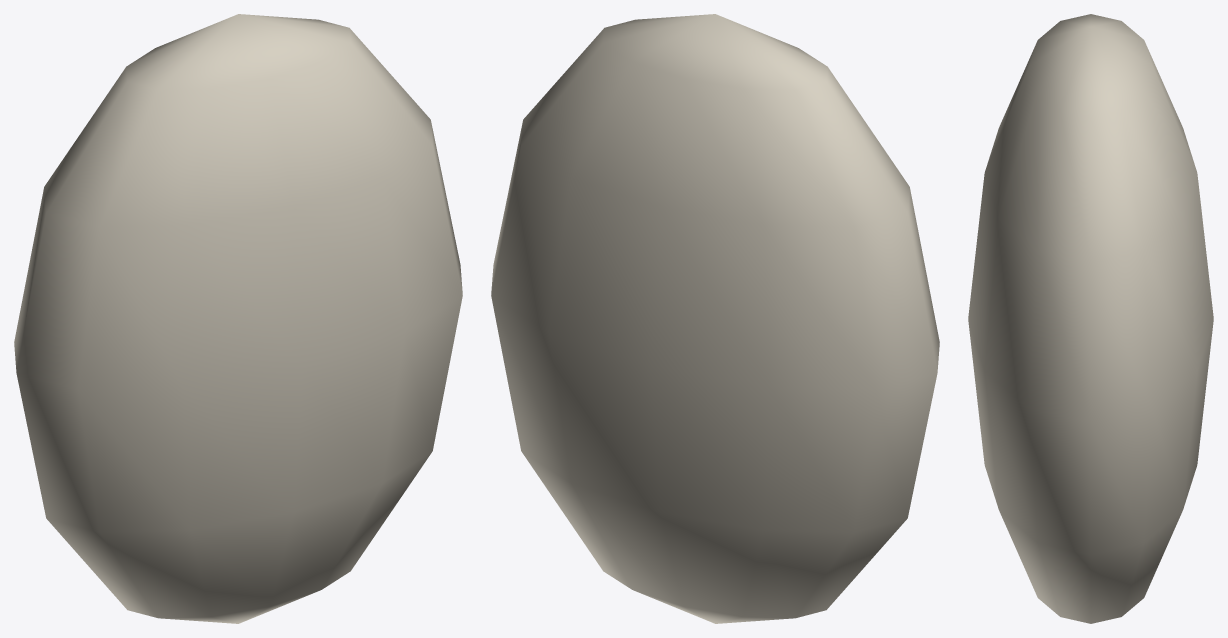
Rendered from ink.glb.
3 views of the same model, side by side, from view 1: azimuth 30°, elevation 25°; view 2: azimuth 150°, elevation 25°; view 3: azimuth 270°, elevation 25° (orthographic). The views are drawn at different scales.
Parts seen in each view (by area): view 1: ink; view 2: ink; view 3: ink.
Boxes of the visible parts, x1,y1,x2,y2 form: ink: (14, 14, 462, 623); ink: (491, 14, 939, 623); ink: (968, 14, 1213, 623).
Bounding box in the file's own units: 0.144 × 0.189 × 0.072.
